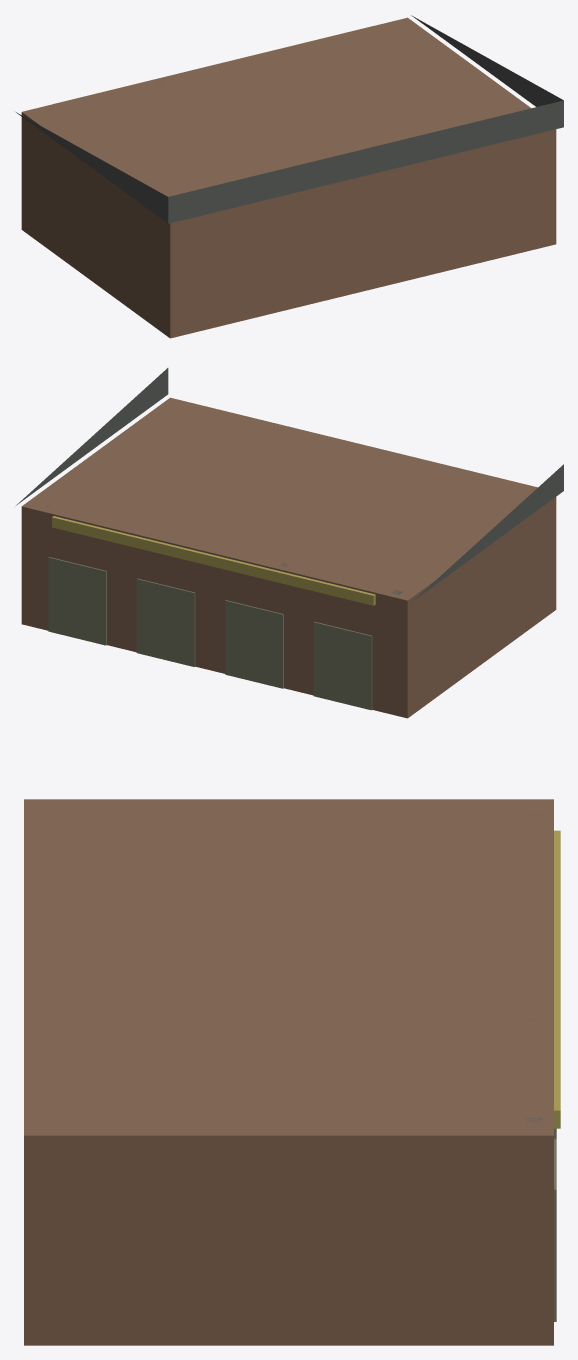
Rendered from b_warehouse.glb.
The picture shows the model from 3 angles, top to bottom: view 1: azimuth 30°, elevation 25°; view 2: azimuth 150°, elevation 25°; view 3: azimuth 270°, elevation 25°; orthographic projection. The views are drawn at different scales.
Visible parts, largest first — view 1: walls; view 2: walls; view 3: walls.
Part boxes in pixels (<box>): walls: <box>16,15,563,338</box>; walls: <box>16,368,563,718</box>; walls: <box>24,799,560,1345</box>.
Size of the model in its own units: 24.6 by 8.6 by 16.6.
